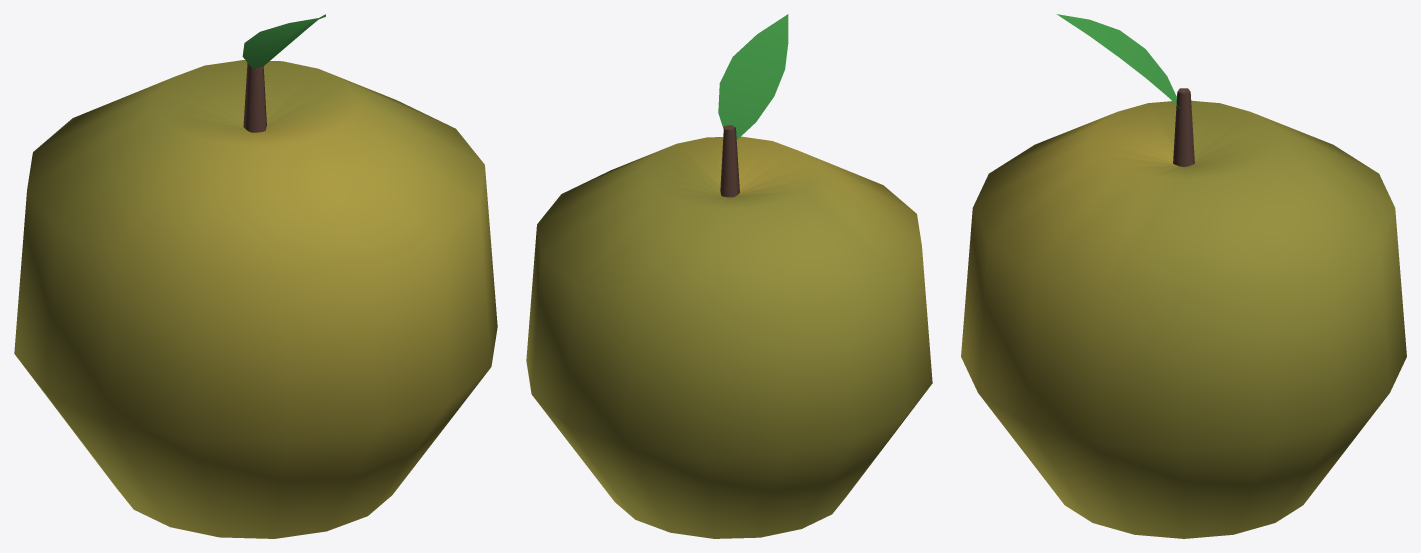
The model's file is fruit-apple-unripe.gltf.
The picture shows the model from 3 angles, left to right: view 1: azimuth 30°, elevation 25°; view 2: azimuth 150°, elevation 25°; view 3: azimuth 270°, elevation 25°; orthographic projection. The views are drawn at different scales.
Size of the model in its own units: 0.38 by 0.4523 by 0.38.
